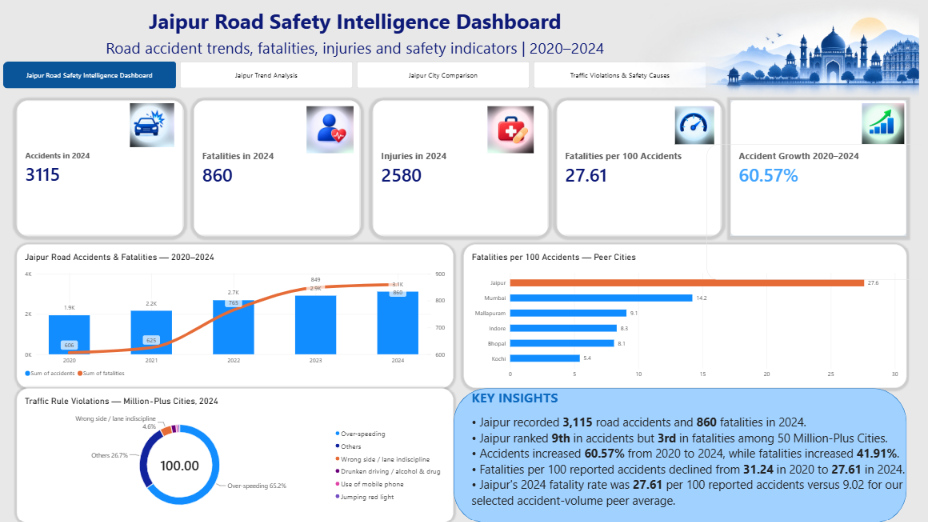

The dashboard page shown, as its layout file describes it:
{"tool":"powerbi","page":{"name":" Jaipur Road Safety Intelligence Dashboard","canvas":[1920,1080],"ordinal":0},"visuals":[{"type":"cardVisual","fields":{"Data":["Sum(city_accidents_2023_2024.accidents_2024)"]},"box":[39.1,207.9,343.7,279.9],"z":0},{"type":"cardVisual","fields":{"Data":["Sum(city_accidents_2023_2024.fatalities_2024)"]},"box":[403.4,207.9,343.7,279.9],"z":1000},{"type":"cardVisual","fields":{"Data":["Sum(city_accidents_2023_2024.injuries_2024)"]},"box":[771.9,207.9,362.3,279.9],"z":2000},{"type":"cardVisual","fields":{"Data":["Sum(city_accidents_2023_2024.fatalities_per_100_accidents_2024)"]},"box":[1150.6,207.9,339.6,279.9],"z":3000},{"type":"cardVisual","fields":{"Data":["DimCity.Accident Growth 2020-2024 %"]},"box":[1508.8,207.9,362.3,279.9],"z":4000},{"type":"lineClusteredColumnComboChart","title":"Jaipur Road Accidents & Fatalities — 2020–2024","fields":{"Category":["jaipur_road_safety_trend_2020_2024.year"],"Y":["Sum(jaipur_road_safety_trend_2020_2024.accidents)"],"Y2":["Sum(jaipur_road_safety_trend_2020_2024.fatalities)"]},"box":[39.1,504.3,899.5,296.4],"z":5000},{"type":"clusteredBarChart","title":"Fatalities per 100 Accidents — Peer Cities","fields":{"Category":["jaipur_peer_comparison_2024.city"],"Y":["Sum(jaipur_peer_comparison_2024.fatalities_per_100_accidents_2024)"]},"box":[959.2,504.3,911.8,296.4],"z":6000},{"type":"donutChart","title":"Traffic Rule Violations — Million-Plus Cities, 2024","fields":{"Category":["million_plus_traffic_violations_2024.violation"],"Y":["Sum(million_plus_traffic_violations_2024.accident_share_pct)"]},"box":[39.1,800.7,899.5,279.9],"z":7000},{"type":"textbox","box":[39.7,885.9,1410.3,62.8],"z":8000},{"type":"textbox","box":[1460,299,460,279],"z":9000},{"type":"textbox","box":[10.3,14.4,1451.1,127.6],"z":10000},{"type":"textbox","box":[10.3,78.2,1451.1,63.8],"z":11000},{"type":"shape","box":[938.6,800.7,932.4,279.9],"z":12000},{"type":"textbox","box":[1461,34,459,150],"z":13000},{"type":"textbox","box":[975.6,800.7,944.8,279.9],"z":14000},{"type":"pageNavigator","box":[10.3,127.6,1451.1,57.6],"z":15000},{"type":"image","box":[253.2,214.1,129.7,90.6],"z":16000},{"type":"image","box":[631.9,220.2,105,96.7],"z":17000},{"type":"image","box":[1000.3,220.2,111.1,96.7],"z":18000},{"type":"image","box":[1379.1,220.2,111.1,78.2],"z":19000},{"type":"image","box":[1774.3,214.1,96.7,84.4],"z":20000},{"type":"image","box":[1307,0,594.9,207.9],"z":21000}]}

Visuals, with their boxes in screenshot pixels (x1, y1, x2, y2), scaled from the page's 1920x1080 canvas onto the 928x522 screenshot:
cardVisual - Sum(city_accidents_2023_2024.accidents_2024): <region>19, 100, 185, 236</region>
cardVisual - Sum(city_accidents_2023_2024.fatalities_2024): <region>195, 100, 361, 236</region>
cardVisual - Sum(city_accidents_2023_2024.injuries_2024): <region>373, 100, 548, 236</region>
cardVisual - Sum(city_accidents_2023_2024.fatalities_per_100_accidents_2024): <region>556, 100, 720, 236</region>
cardVisual - DimCity.Accident Growth 2020-2024 %: <region>729, 100, 904, 236</region>
"Jaipur Road Accidents & Fatalities — 2020–2024" lineClusteredColumnComboChart: <region>19, 244, 454, 387</region>
"Fatalities per 100 Accidents — Peer Cities" clusteredBarChart: <region>464, 244, 904, 387</region>
"Traffic Rule Violations — Million-Plus Cities, 2024" donutChart: <region>19, 387, 454, 521</region>
textbox: <region>19, 428, 701, 459</region>
textbox: <region>706, 145, 927, 279</region>
textbox: <region>5, 7, 706, 69</region>
textbox: <region>5, 38, 706, 69</region>
shape: <region>454, 387, 904, 521</region>
textbox: <region>706, 16, 927, 89</region>
textbox: <region>472, 387, 927, 521</region>
pageNavigator: <region>5, 62, 706, 90</region>
image: <region>122, 103, 185, 147</region>
image: <region>305, 106, 356, 153</region>
image: <region>483, 106, 537, 153</region>
image: <region>667, 106, 720, 144</region>
image: <region>858, 103, 904, 144</region>
image: <region>632, 0, 919, 100</region>
